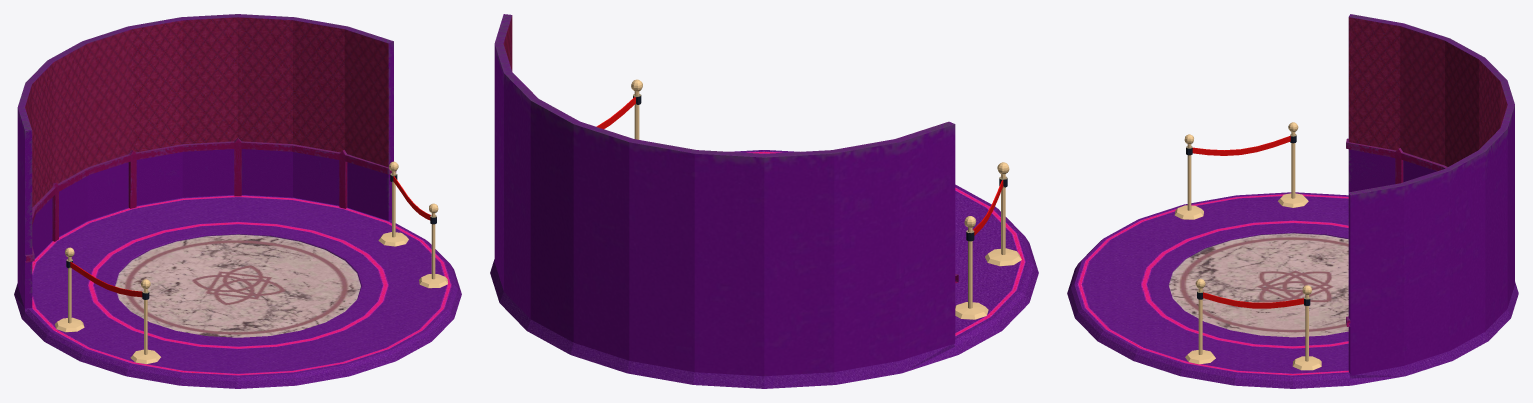
The model's file is Stage1.fbx.
The picture shows the model from 3 angles, left to right: view 1: azimuth 30°, elevation 25°; view 2: azimuth 150°, elevation 25°; view 3: azimuth 270°, elevation 25°; orthographic projection. The views are drawn at different scales.
Parts seen in each view (by area): view 1: Stage1; view 2: Stage1; view 3: Stage1.
Boxes of the visible parts, x1,y1,x2,y2 form: Stage1: (14, 14, 461, 388); Stage1: (490, 14, 1038, 388); Stage1: (1067, 14, 1518, 388).
Bounding box in the file's own units: 2 × 0.9225 × 2.
1 material, 1 textured.
